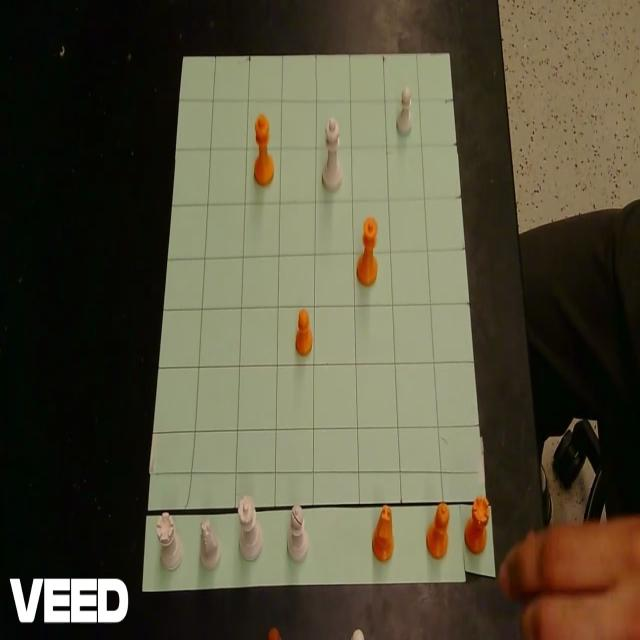orange_bishop: (426, 502, 450, 559), (268, 627, 281, 640)
orange_king: (253, 112, 274, 186)
orange_knight: (372, 504, 394, 562)
orange_pawn: (295, 306, 313, 356)
orange_queen: (356, 216, 378, 286)
orange_rook: (464, 495, 490, 554)
white_bishop: (287, 503, 308, 562)
white_king: (322, 116, 342, 191)
white_knight: (200, 518, 222, 570)
white_pawn: (397, 85, 412, 135), (350, 628, 364, 640)
white_queen: (237, 494, 263, 560)
white_rook: (156, 511, 182, 571)
